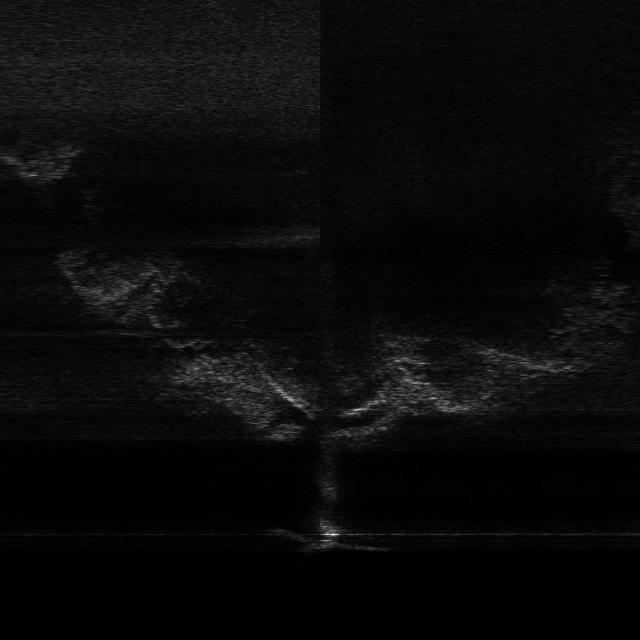plane: (269, 514, 392, 556)
